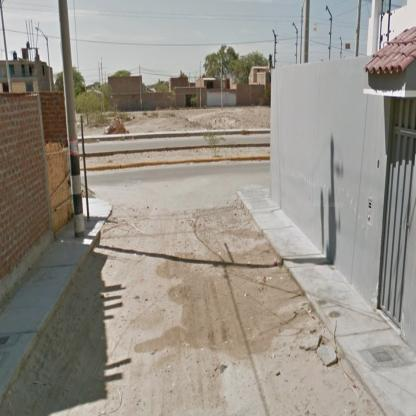Obstaculo: (316, 341, 338, 369), (299, 331, 323, 351)
Pista: (2, 162, 384, 416)
